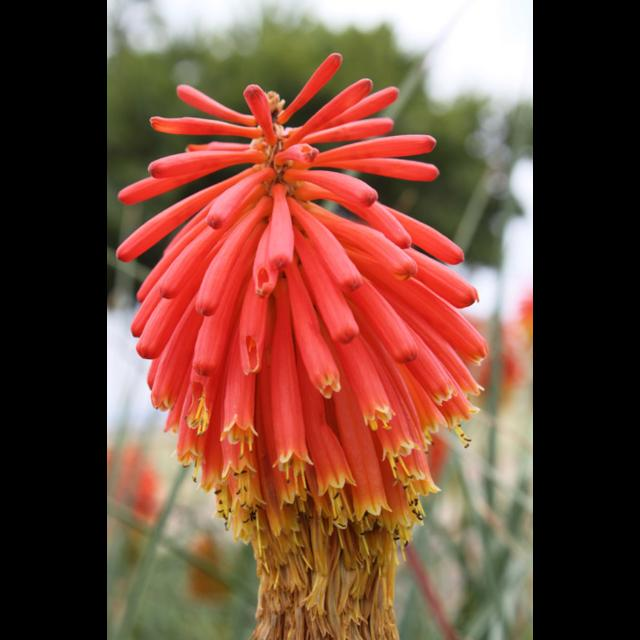Flower: (129, 70, 487, 618)
